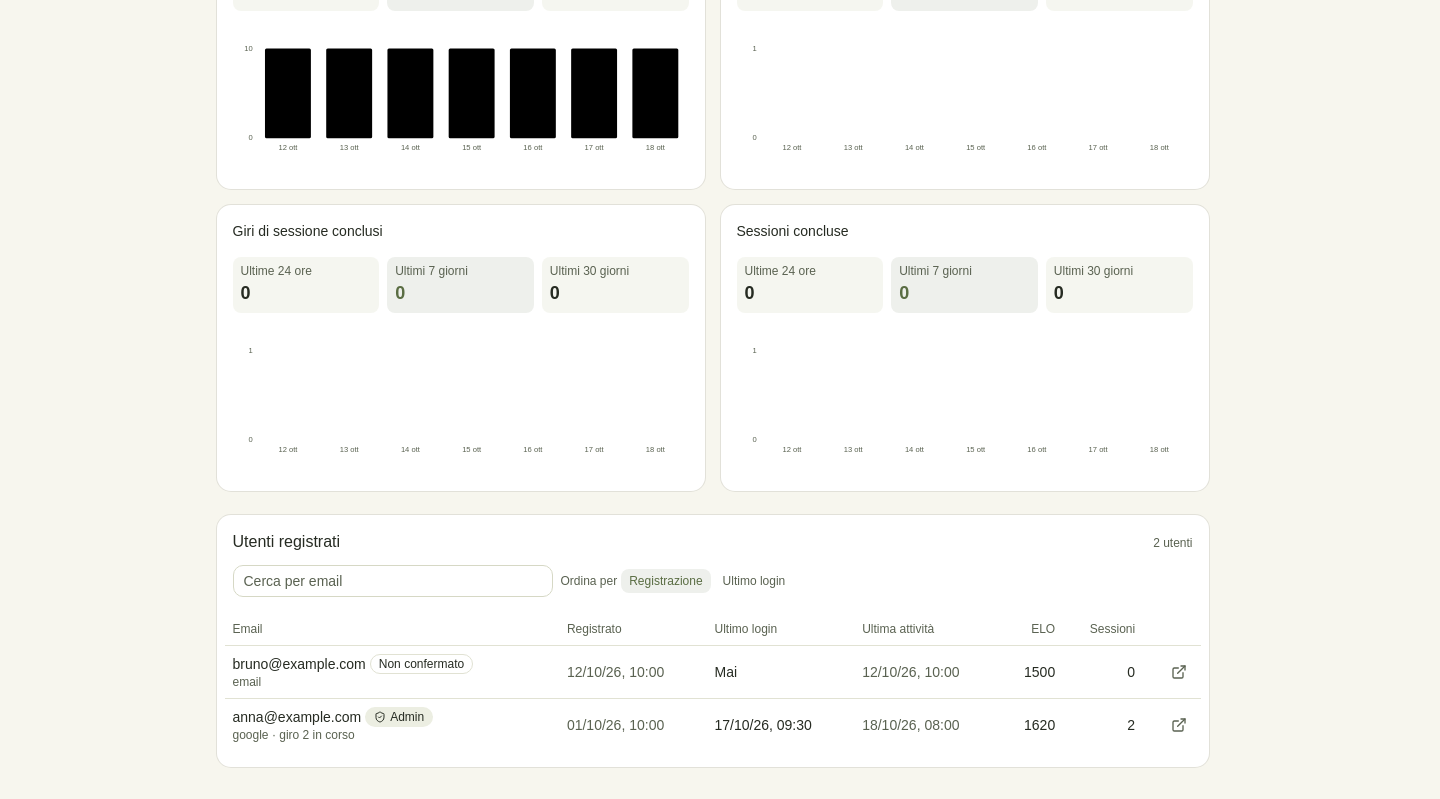
Test: AdminPage › filters the list by email and sorts it by last login
(page scrolled)
Click the button "Ultimo login": (754, 581) [715,569,793,593]
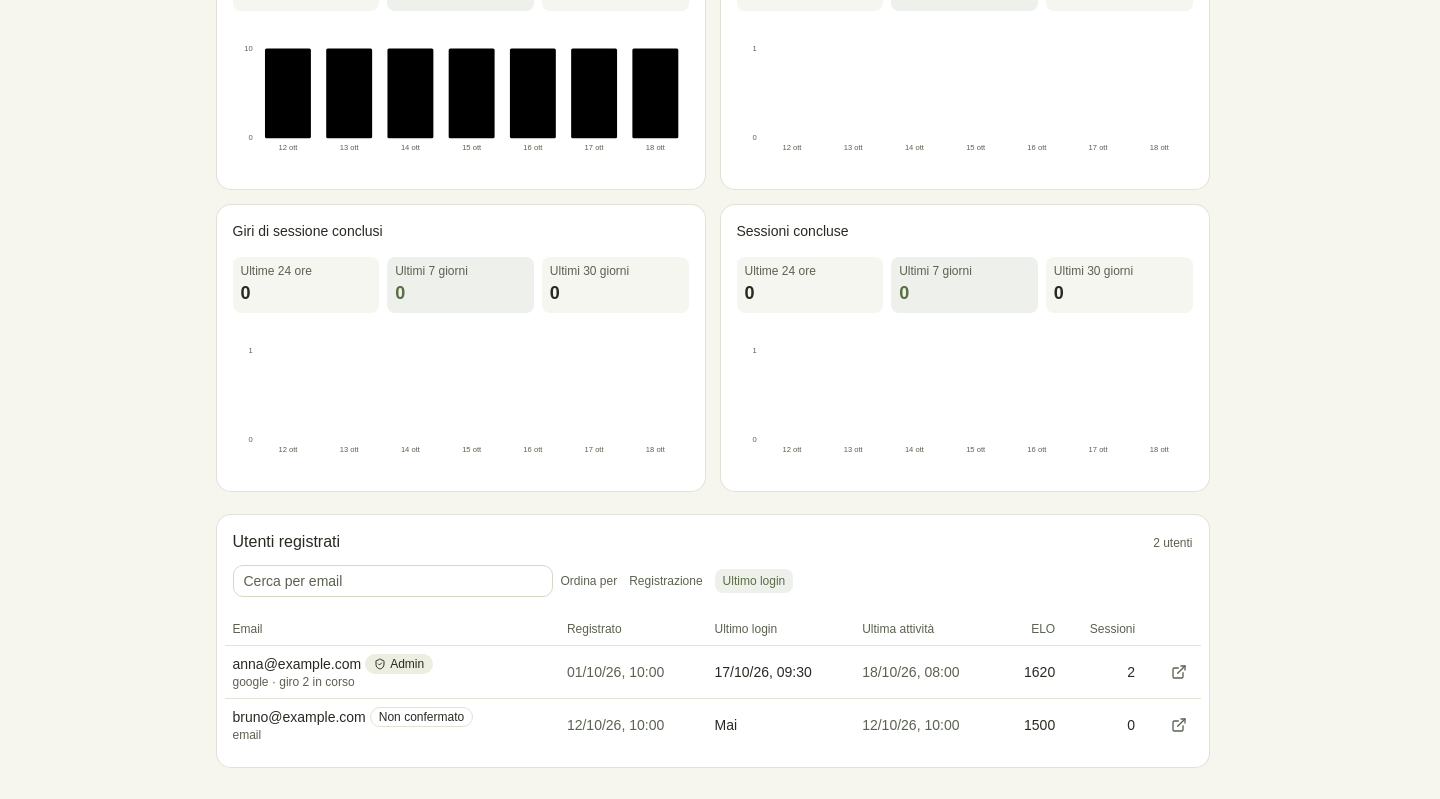
Check: the text "anna@example.com" is shown, box [232,654,361,674]
In the search field labelled "Cerca per email": (392, 581) [232,565,552,597], type "bru"
(page scrolled)
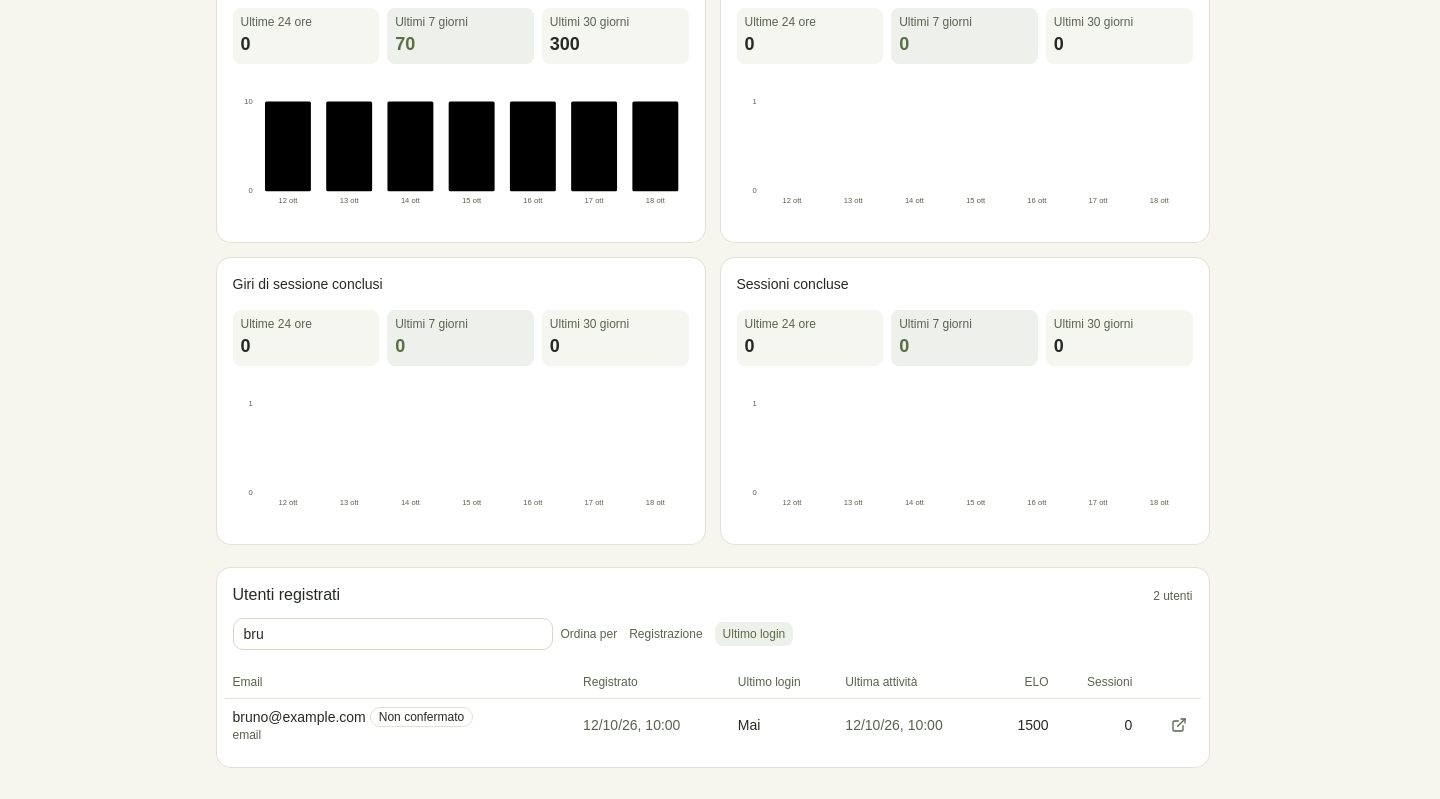
Check: the text "bruno@example.com" is shown, box [232,707,366,727]
Check: the text "anna@example.com" is gone
Replace the text in the search field named "Cerca per email" with "nessuno": (392, 634) [232,618,552,650]
(page scrolled)
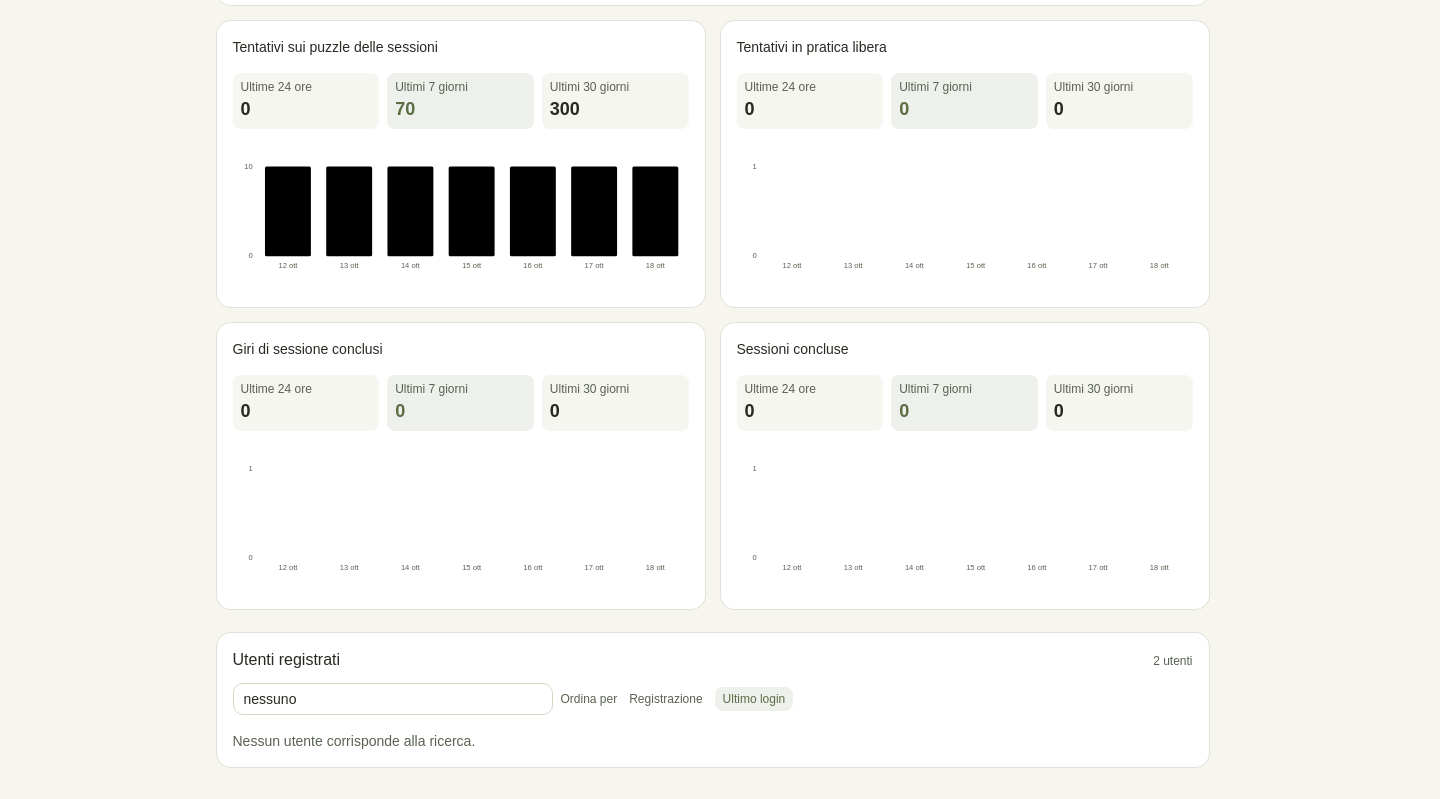
Check: the text "Nessun utente corrisponde alla ricerca." is shown, box [232,733,475,749]
